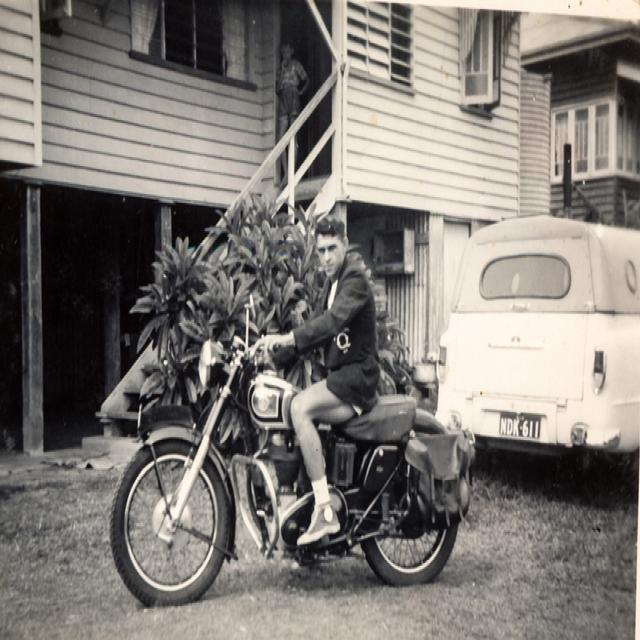motor: (119, 297, 473, 614)
